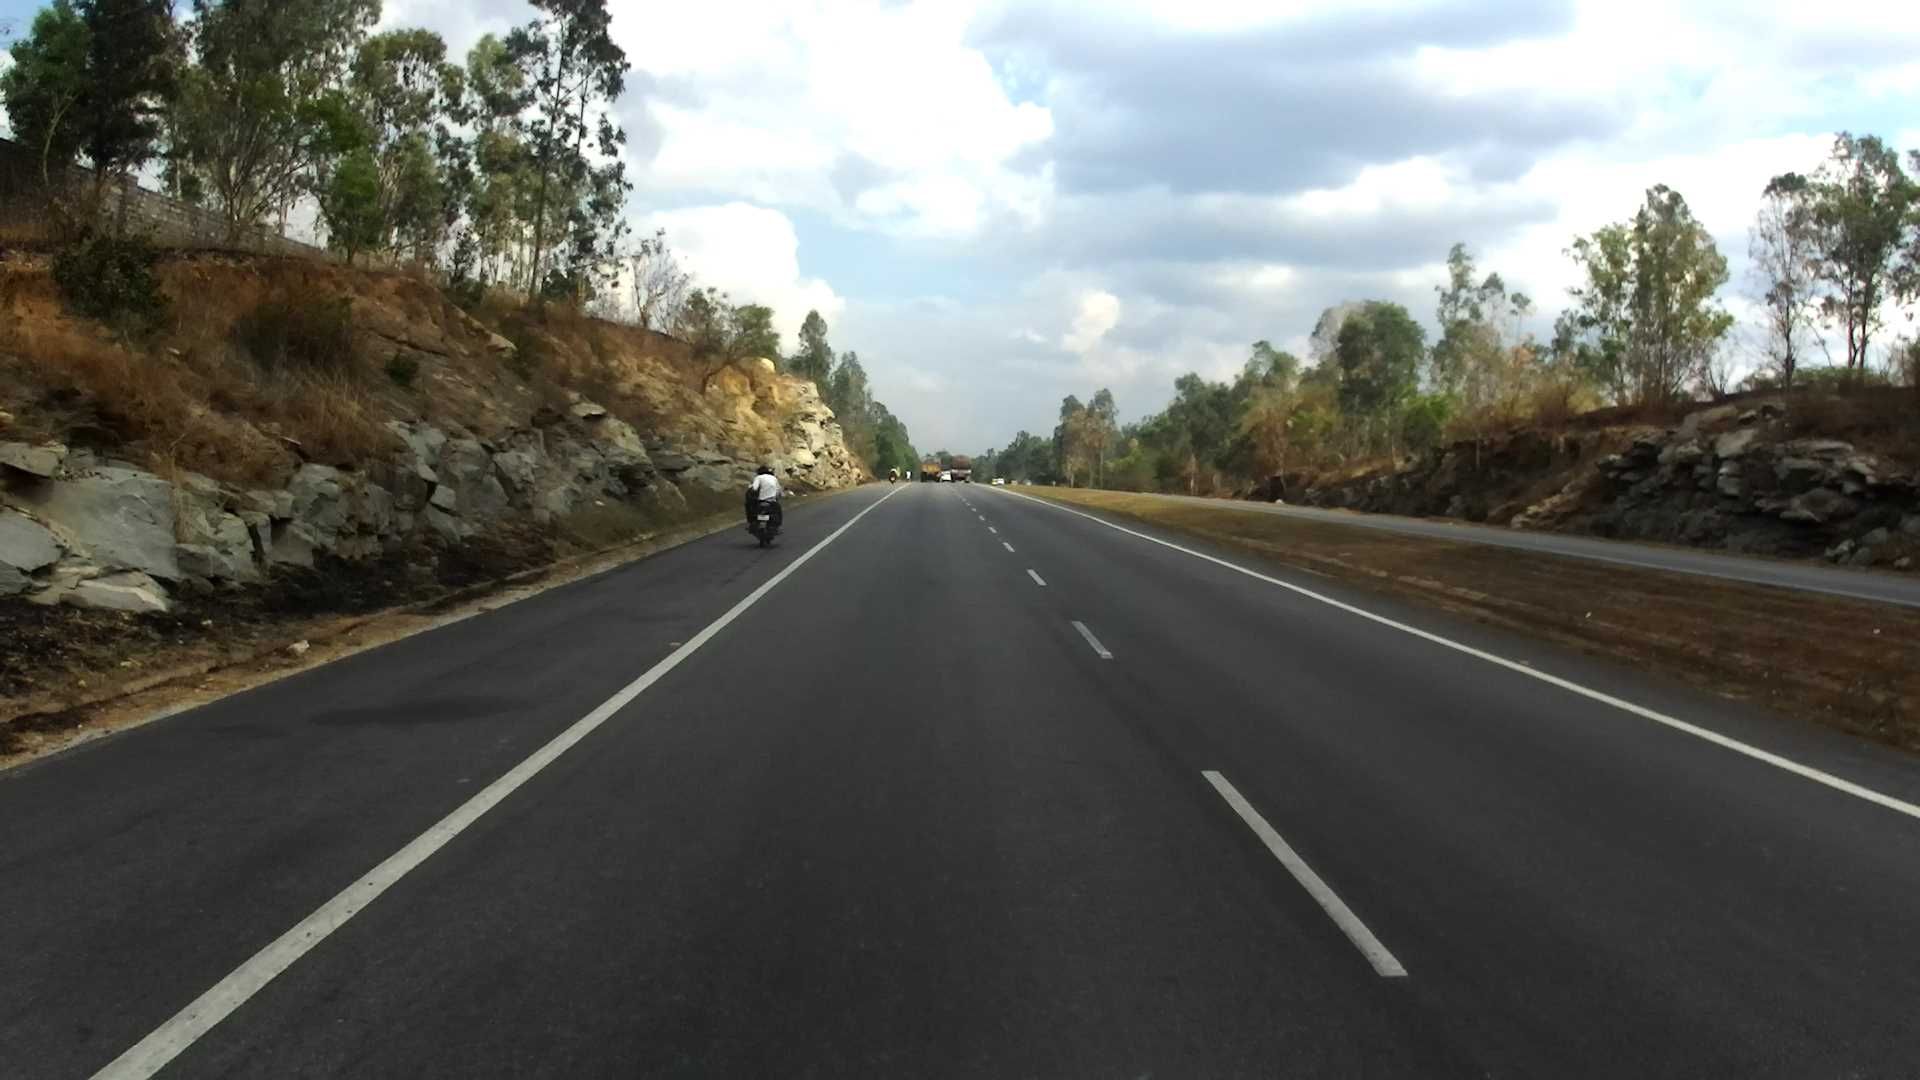bike: (741, 446, 804, 546), (879, 453, 907, 496)
truck: (916, 442, 947, 498), (950, 446, 979, 502)
